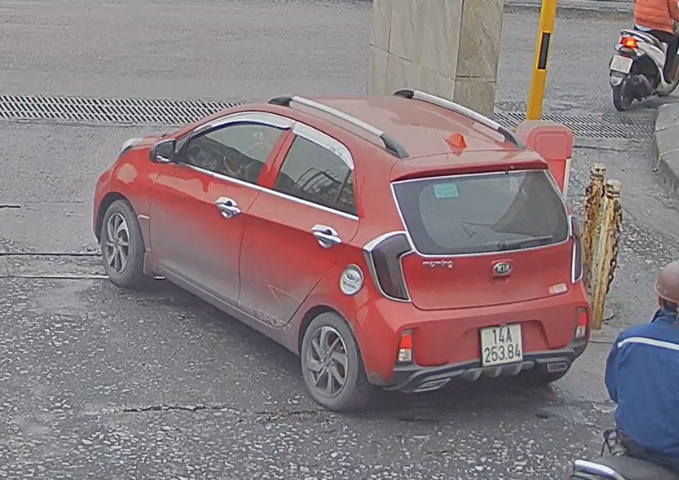vehicle plate: (481, 319, 529, 366)
